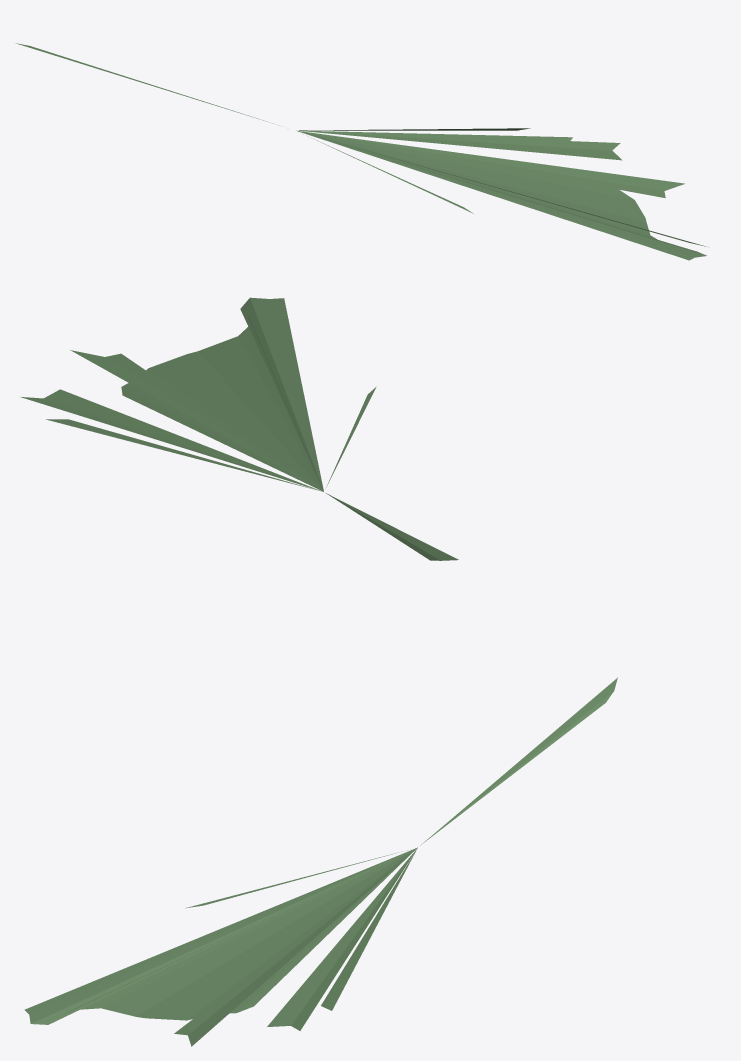
The model's file is c_1669_17826_forest.glb.
The picture shows the model from 3 angles, top to bottom: view 1: azimuth 30°, elevation 25°; view 2: azimuth 150°, elevation 25°; view 3: azimuth 270°, elevation 25°; orthographic projection. The views are drawn at different scales.
Visible parts, largest first — view 1: geometry_0; view 2: geometry_0; view 3: geometry_0.
Boxes of the visible parts, x1=… form: geometry_0: x1=16, y1=43, x2=707, y2=260; geometry_0: x1=20, y1=297, x2=458, y2=560; geometry_0: x1=24, y1=677, x2=617, y2=1046.
Size of the model in its own units: 552 by 120 by 602.
